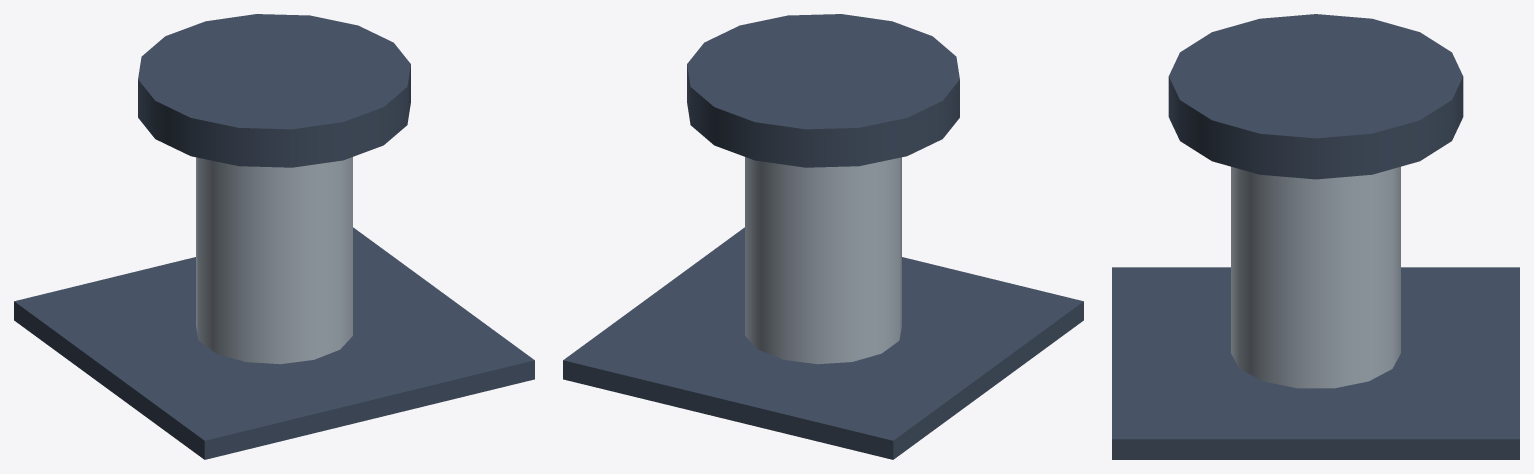
File: fit-roof-jack-cap.glb
3 views of the same model, side by side, from view 1: azimuth 30°, elevation 25°; view 2: azimuth 150°, elevation 25°; view 3: azimuth 270°, elevation 25° (orthographic). The views are drawn at different scales.
Visible parts, largest first — view 1: hvac-fitting-roof-jack-vent-cap; view 2: hvac-fitting-roof-jack-vent-cap; view 3: hvac-fitting-roof-jack-vent-cap.
Part boxes in pixels (x1,y1,x2,y2): hvac-fitting-roof-jack-vent-cap: [14, 14, 534, 459]; hvac-fitting-roof-jack-vent-cap: [563, 14, 1083, 459]; hvac-fitting-roof-jack-vent-cap: [1112, 14, 1519, 459].
Bounding box in the file's own units: 0.36 × 0.29 × 0.36.
